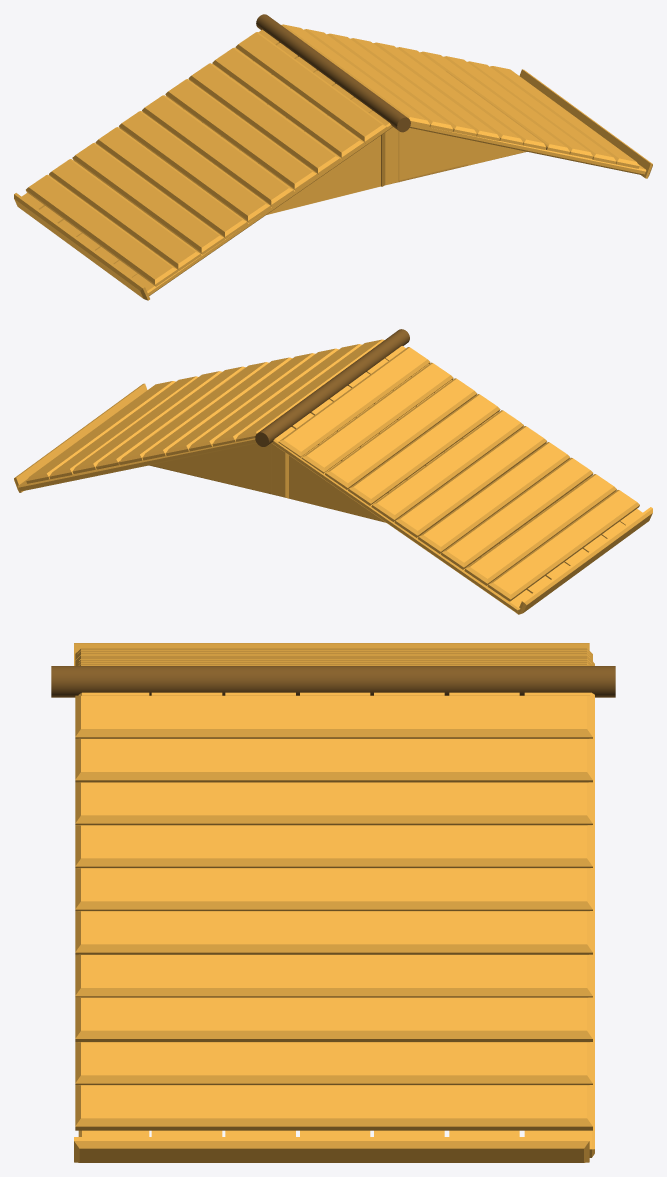
Rendered from Grill_Roof.fbx.
The picture shows the model from 3 angles, top to bottom: view 1: azimuth 30°, elevation 25°; view 2: azimuth 150°, elevation 25°; view 3: azimuth 270°, elevation 25°; orthographic projection. The views are drawn at different scales.
Parts seen in each view (by area): view 1: Tak; view 2: Tak; view 3: Tak.
Boxes of the visible parts, x1,y1,x2,y2 form: Tak: (14,14,652,300); Tak: (14,329,652,614); Tak: (51,643,615,1162).
Size of the model in its own units: 19.72 by 4.63 by 9.4.
1 material, 1 textured.
